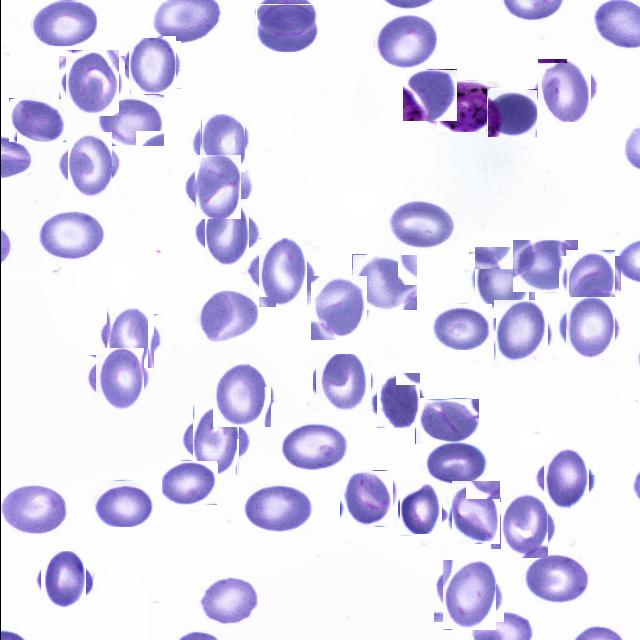difficult: (436, 82, 500, 134)
red blood cell: (438, 564, 500, 626), (210, 364, 272, 426), (240, 483, 314, 534), (36, 209, 105, 263), (384, 198, 454, 250), (351, 254, 416, 310), (280, 422, 350, 474), (471, 250, 531, 310), (308, 278, 368, 338), (62, 53, 122, 113), (490, 302, 550, 361), (95, 94, 163, 146), (252, 243, 311, 302), (373, 14, 436, 68), (512, 240, 577, 292), (186, 411, 244, 469), (534, 62, 592, 120), (524, 552, 587, 604), (196, 289, 257, 342), (4, 484, 66, 536), (496, 497, 552, 554), (198, 204, 254, 260), (90, 352, 146, 408), (561, 253, 617, 309), (537, 451, 593, 507), (313, 355, 369, 411), (561, 300, 617, 356), (190, 159, 246, 215), (448, 484, 503, 540), (30, 0, 96, 46), (62, 136, 116, 192), (255, 4, 318, 52), (414, 398, 478, 444), (103, 310, 157, 364), (424, 442, 490, 486), (91, 480, 152, 527), (124, 39, 178, 92), (401, 69, 456, 121), (200, 577, 257, 627), (430, 304, 491, 350), (37, 554, 89, 606), (342, 472, 394, 524), (195, 117, 247, 169), (8, 98, 65, 142), (373, 376, 423, 426), (162, 461, 218, 505), (486, 89, 536, 137), (396, 486, 444, 534)
